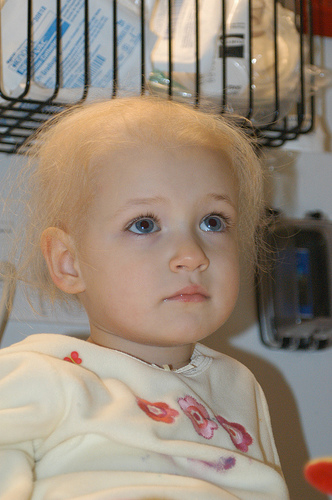without_mask: (51, 109, 280, 362)
